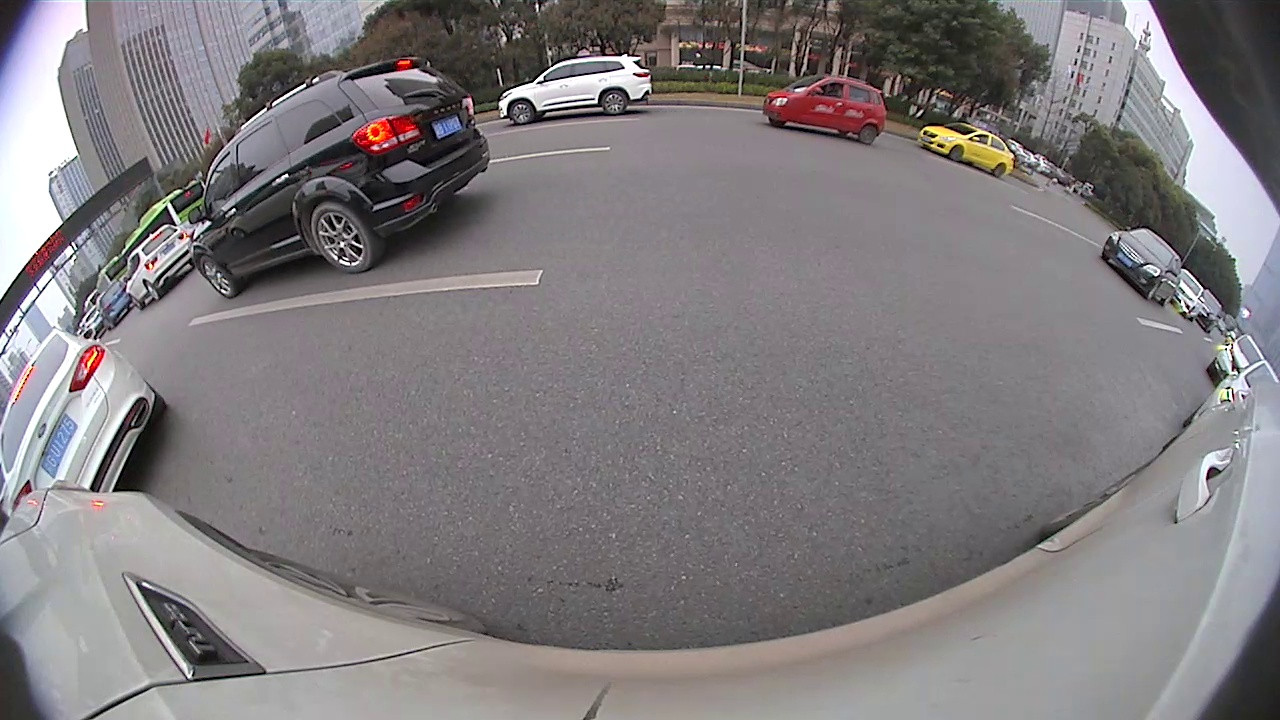car: (190, 54, 493, 301), (2, 326, 168, 523), (494, 54, 654, 127), (759, 70, 892, 147), (120, 220, 199, 312), (1101, 226, 1184, 304), (921, 124, 1019, 181)
front: (199, 254, 236, 299), (509, 99, 535, 126), (948, 144, 963, 161)
rear: (308, 199, 373, 274), (598, 90, 628, 117), (860, 123, 878, 145), (993, 165, 1005, 176)
